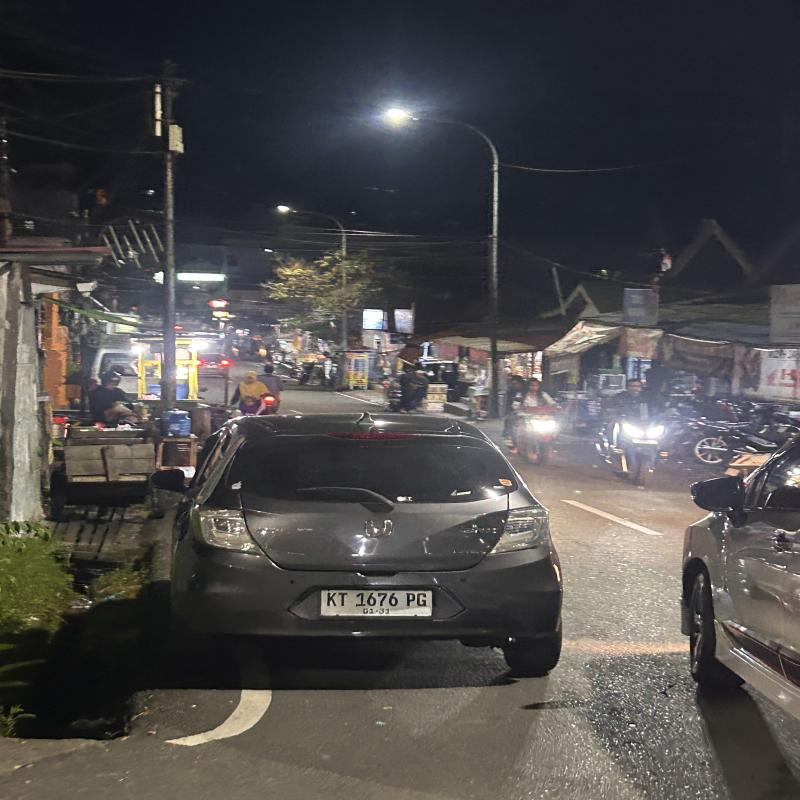license plate on a car: (316, 587, 435, 622)
